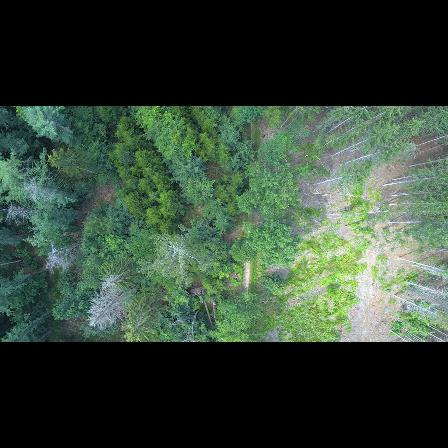Dead: (85, 284, 136, 329), (18, 178, 77, 205), (46, 236, 80, 273), (0, 201, 42, 224)
Sick: (149, 231, 208, 271), (100, 261, 131, 290)
